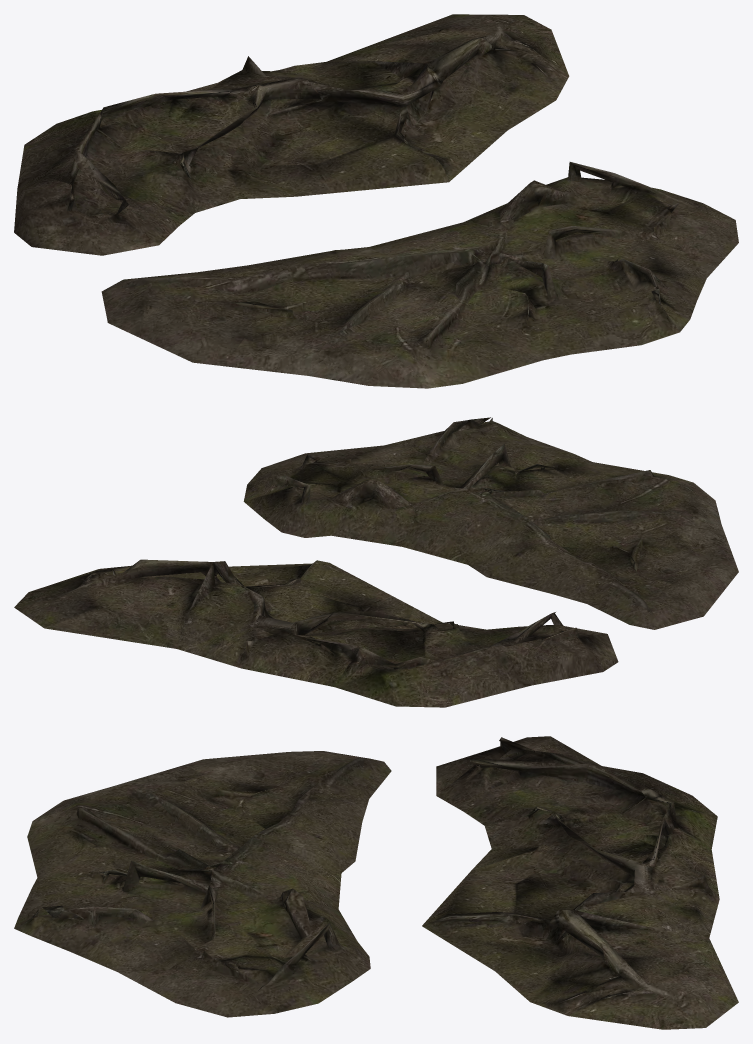
File: pine_roots.glb
The picture shows the model from 3 angles, top to bottom: view 1: azimuth 30°, elevation 25°; view 2: azimuth 150°, elevation 25°; view 3: azimuth 270°, elevation 25°; orthographic projection. The views are drawn at different scales.
Parts seen in each view (by area): view 1: pine_roots_b, pine_roots_a; view 2: pine_roots_b, pine_roots_a; view 3: pine_roots_b, pine_roots_a.
Boxes of the visible parts, <box> form: pine_roots_b: <box>101,162,738,388</box>; pine_roots_a: <box>14,14,569,255</box>; pine_roots_b: <box>243,417,738,629</box>; pine_roots_a: <box>14,559,618,707</box>; pine_roots_b: <box>14,751,391,1017</box>; pine_roots_a: <box>422,736,738,1029</box>.
Size of the model in its own units: 1.76 by 0.1443 by 1.88.
2 materials, 2 textured.
